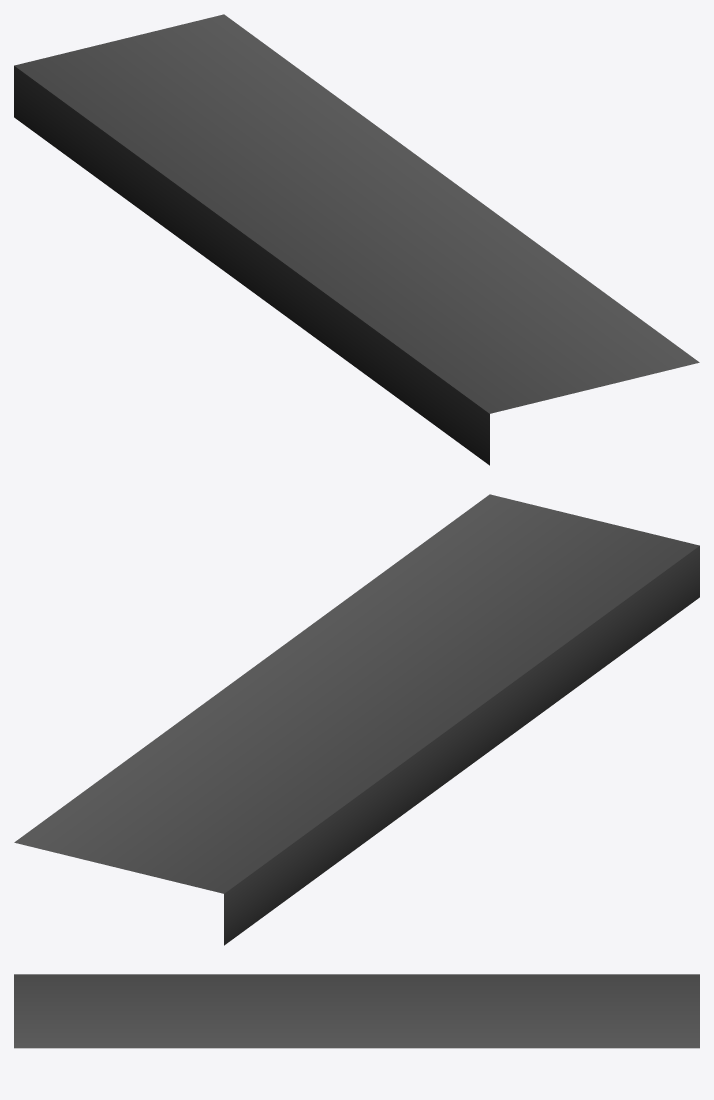
File: KONKURI_R03.glb
The picture shows the model from 3 angles, top to bottom: view 1: azimuth 30°, elevation 25°; view 2: azimuth 150°, elevation 25°; view 3: azimuth 270°, elevation 25°; orthographic projection. The views are drawn at different scales.
Parts seen in each view (by area): view 1: Model; view 2: Model; view 3: Model.
Boxes of the visible parts, x1,y1,x2,y2 form: Model: [14, 14, 699, 465]; Model: [14, 494, 699, 945]; Model: [14, 974, 699, 1048].
Bounding box in the file's own units: 25.5 × 6 × 100.
Materials: 1 (1 with a texture image).
